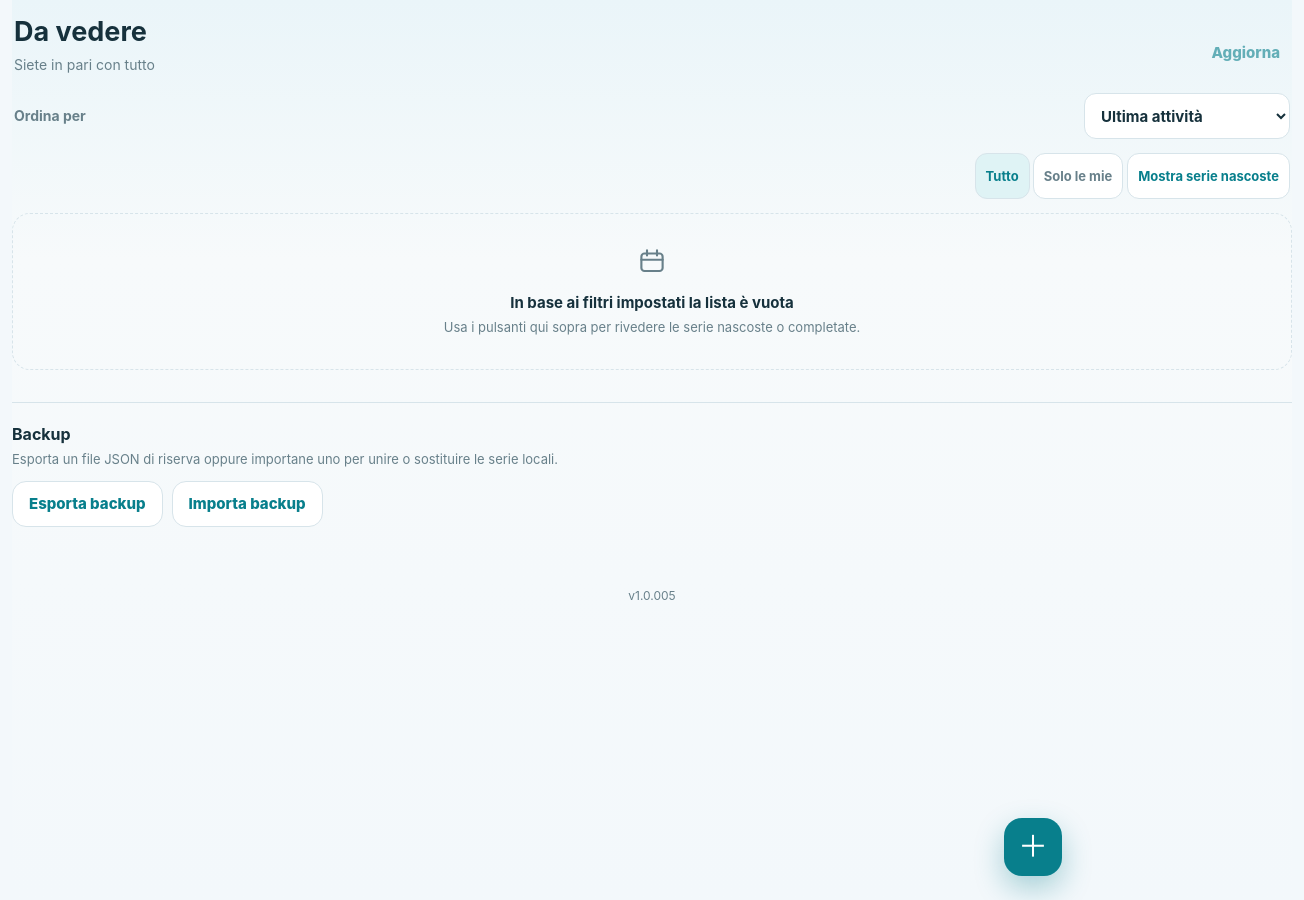
HomeView — serie nascoste (criteri 7, 8, 10, 11) › mostra il pulsante quando esiste una nascosta in lente, e rivela la serie marcata «Nascosta» al click
Click the button with class "hidden-toggle" at (1209,176), box [1127, 153, 1290, 199]
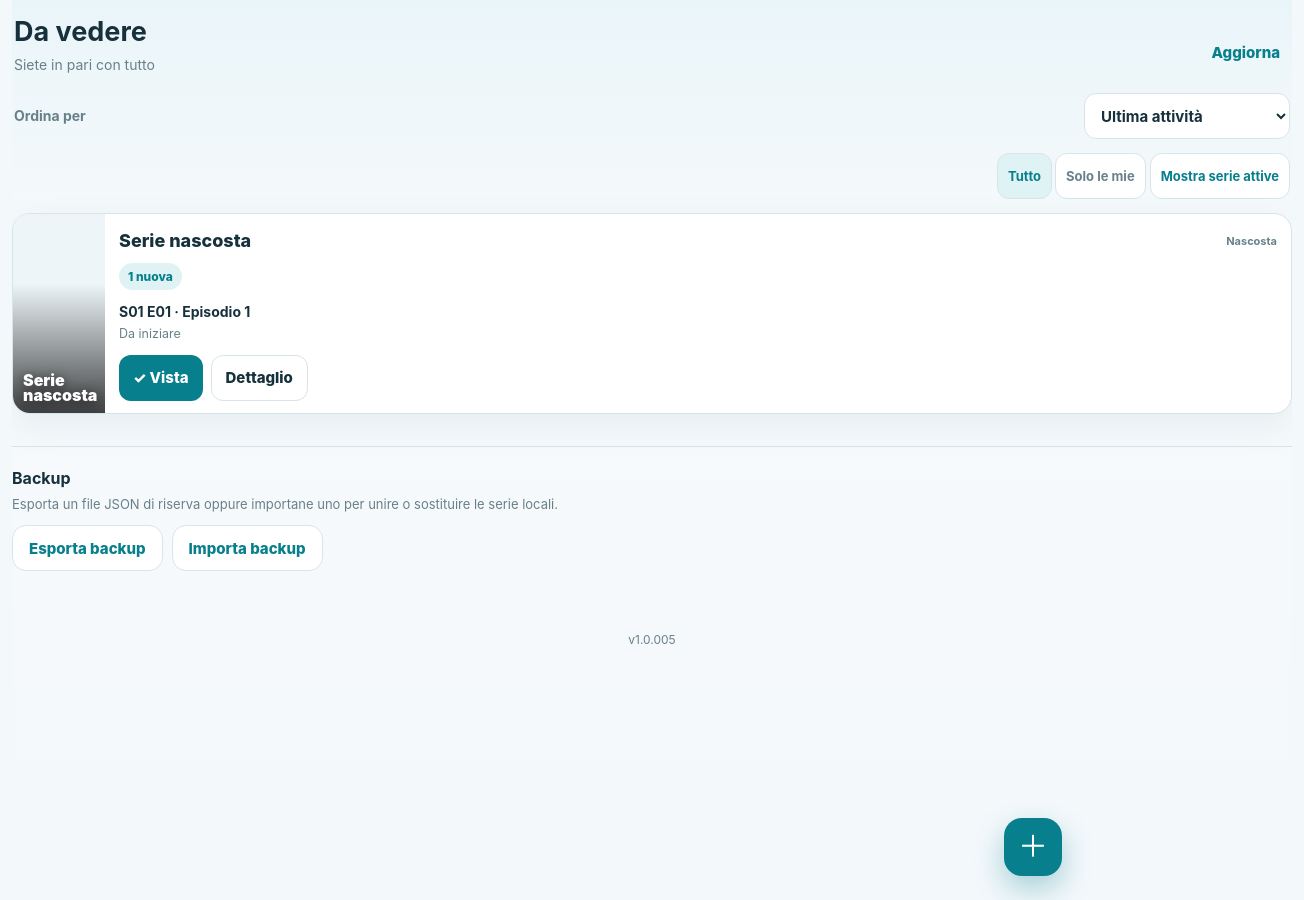
Check: the button with class "hidden-toggle" reads "Mostra serie attive", box [1150, 153, 1290, 199]
Check: the number of elements with class "show" is 1, box [12, 213, 1292, 414]
Check: the text with class "hidden-marker" reads "Nascosta", box [1226, 234, 1277, 248]
